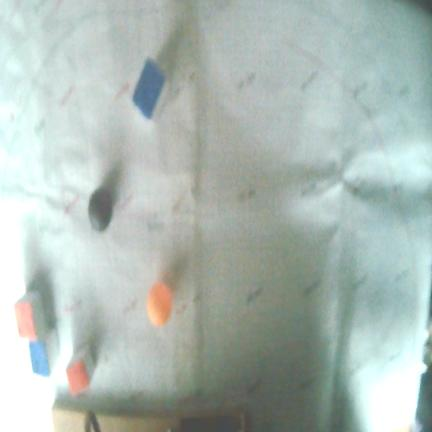circle_blue: (88, 187, 113, 230)
circle_orange: (147, 282, 172, 326)
rectangle_blue: (133, 59, 165, 118)
rectangle_orange: (66, 359, 90, 398)
square_blue: (29, 339, 50, 375)
square_orange: (14, 300, 38, 339)
